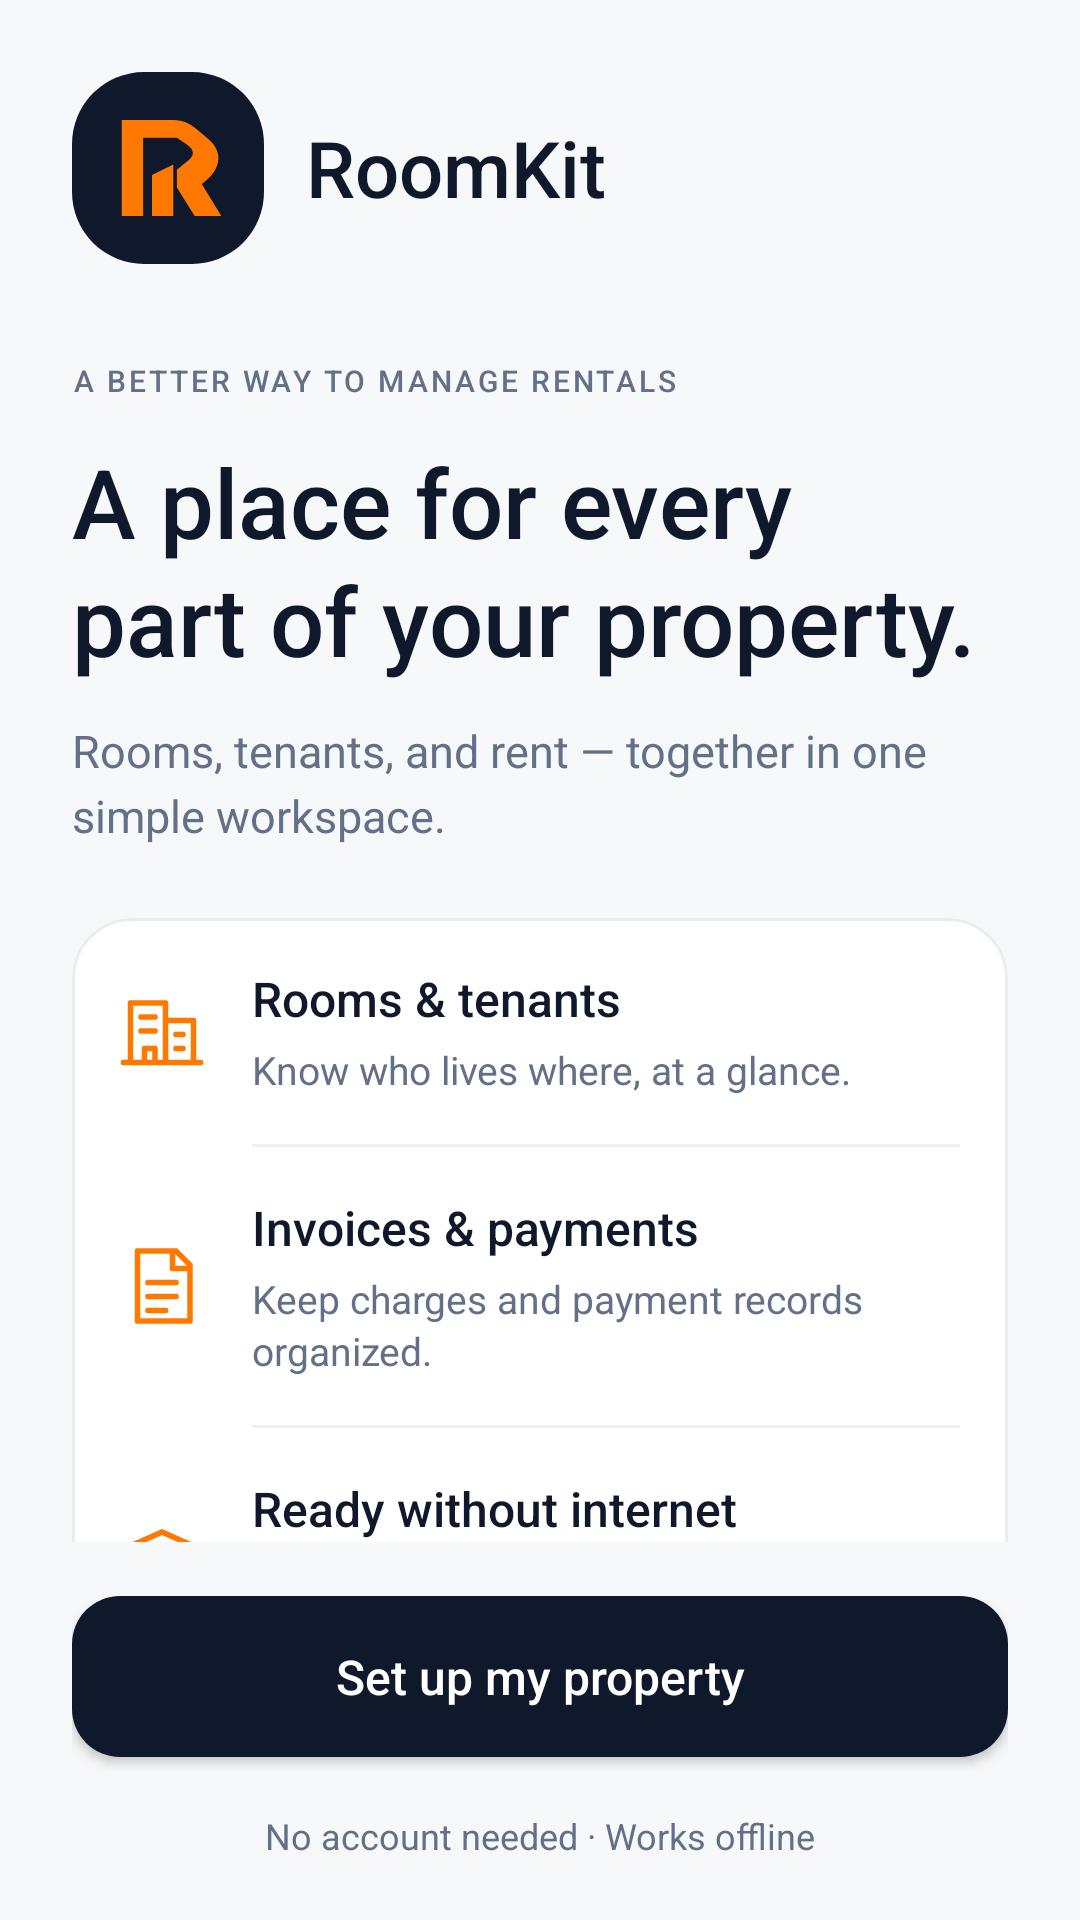

Point at icon controls on the screen. Image size 1080w x 1920h, points as [x,y].
rko payments: [163,1286]
rko rooms: [162,1033]
